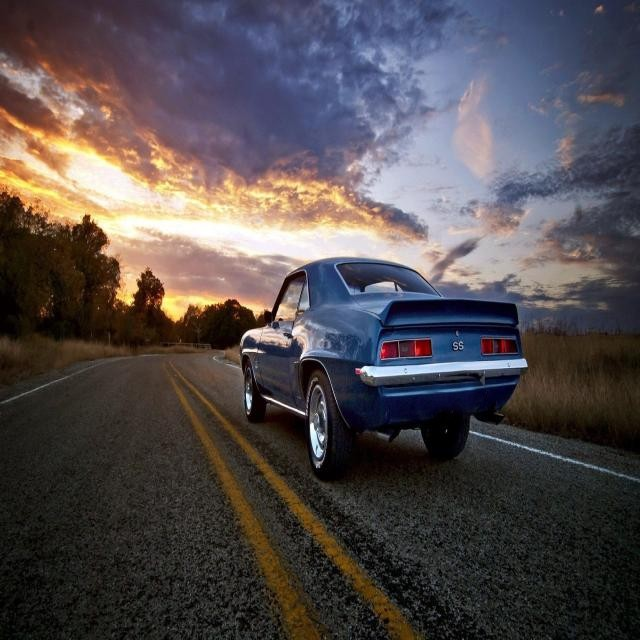car: (240, 254, 529, 482)
